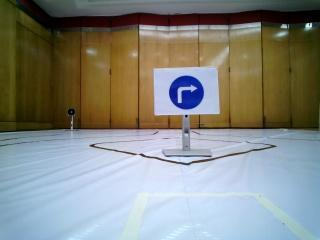right: (156, 66, 218, 113)
